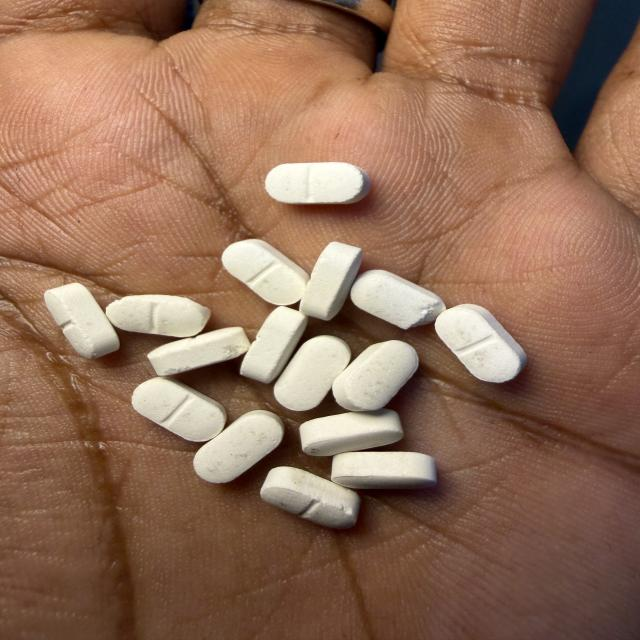pill: (435, 304, 526, 382), (194, 410, 284, 483), (261, 467, 360, 528), (333, 341, 418, 411), (132, 378, 226, 441), (222, 239, 309, 305), (44, 283, 119, 358), (274, 336, 350, 410), (351, 270, 445, 329), (240, 307, 307, 383), (148, 327, 250, 375), (300, 242, 362, 320), (300, 409, 403, 455), (106, 295, 210, 337), (266, 162, 370, 204), (332, 452, 436, 488)
